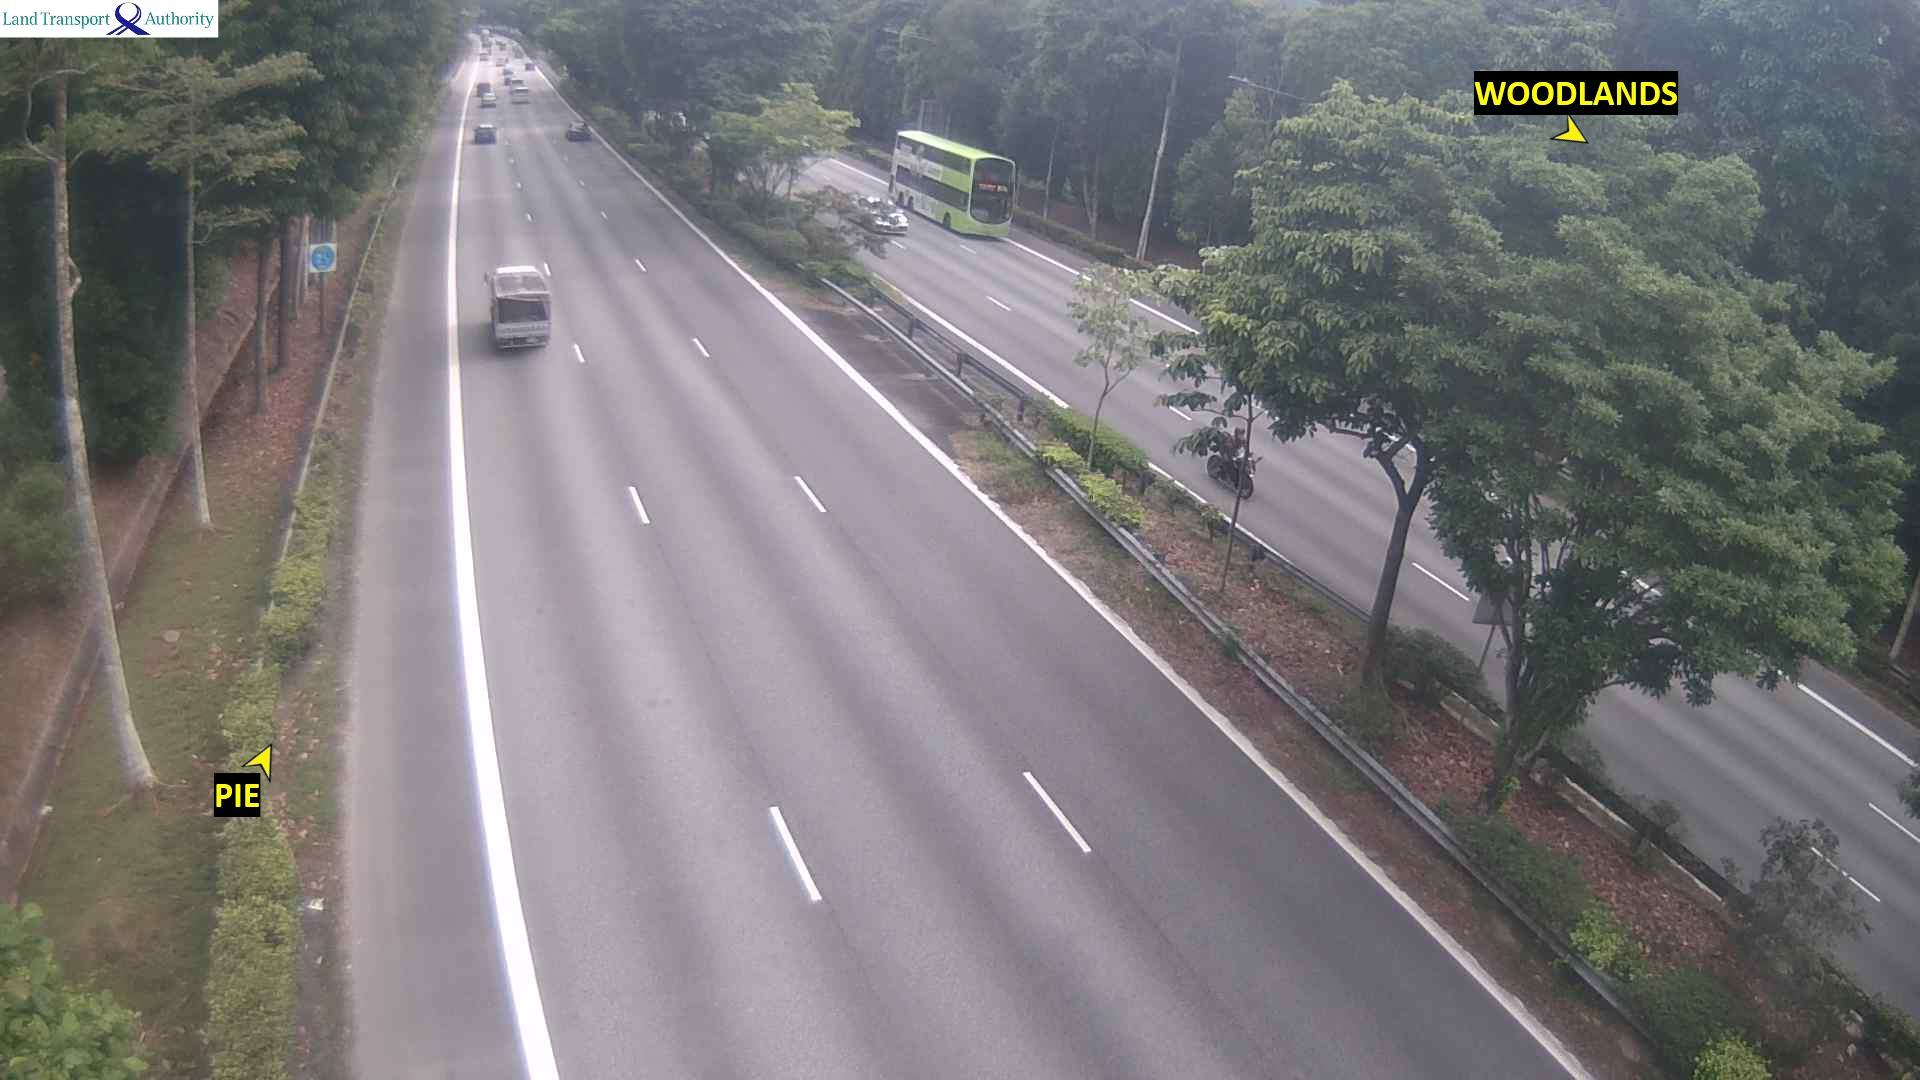bus: (887, 128, 1017, 237)
cars: (852, 193, 909, 233), (564, 117, 589, 141), (476, 80, 495, 105), (473, 123, 495, 142), (509, 83, 529, 102), (491, 45, 509, 65), (500, 65, 516, 84), (476, 45, 491, 59), (521, 57, 534, 71)
motorcycle: (1203, 422, 1262, 500)
trucks: (484, 262, 551, 349)
